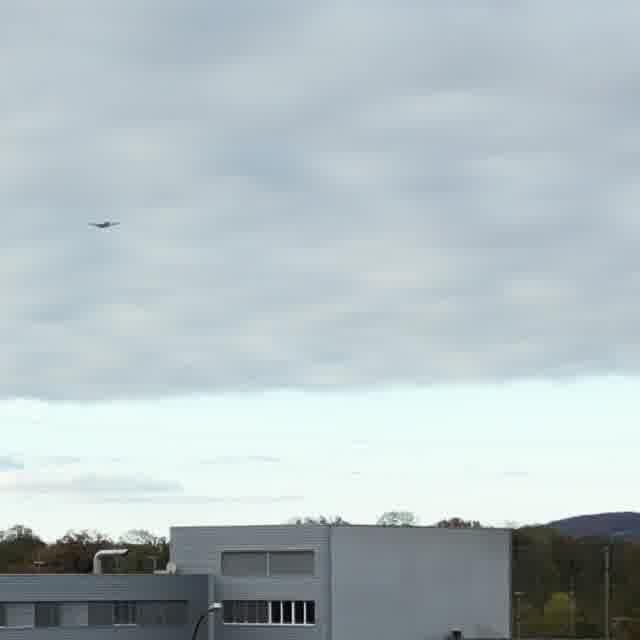Drohne: (89, 221, 119, 228)
